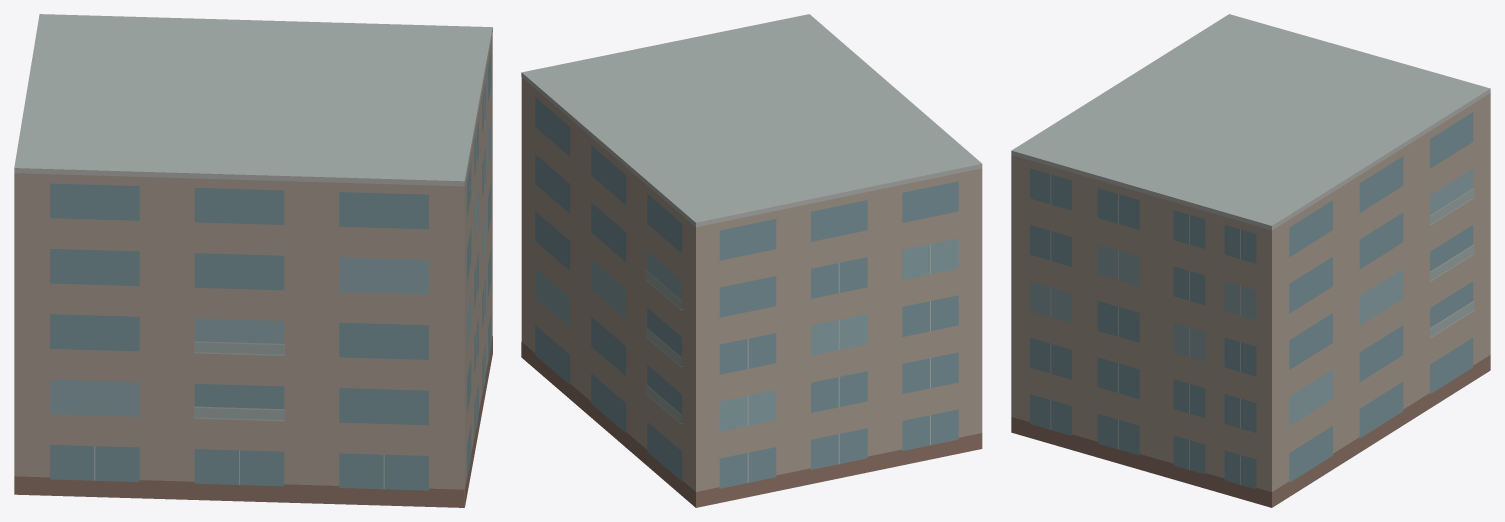
Rendered from survey-upis-32845125.glb.
3 views of the same model, side by side, from view 1: azimuth 30°, elevation 25°; view 2: azimuth 150°, elevation 25°; view 3: azimuth 270°, elevation 25° (orthographic). The views are drawn at different scales.
Parts seen in each view (by area): view 1: survey-upis-32845125.tmp; view 2: survey-upis-32845125.tmp; view 3: survey-upis-32845125.tmp.
Part boxes in pixels (x1,y1,x2,y2): survey-upis-32845125.tmp: (14,14,492,507); survey-upis-32845125.tmp: (521,14,982,507); survey-upis-32845125.tmp: (1011,14,1490,507).
Bounding box in the file's own units: 24.84 × 15.4 × 23.74.
